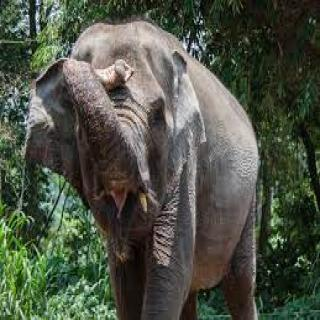Elephant: (22, 16, 271, 320)
